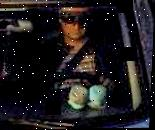seatbelt: (68, 25, 109, 71)
